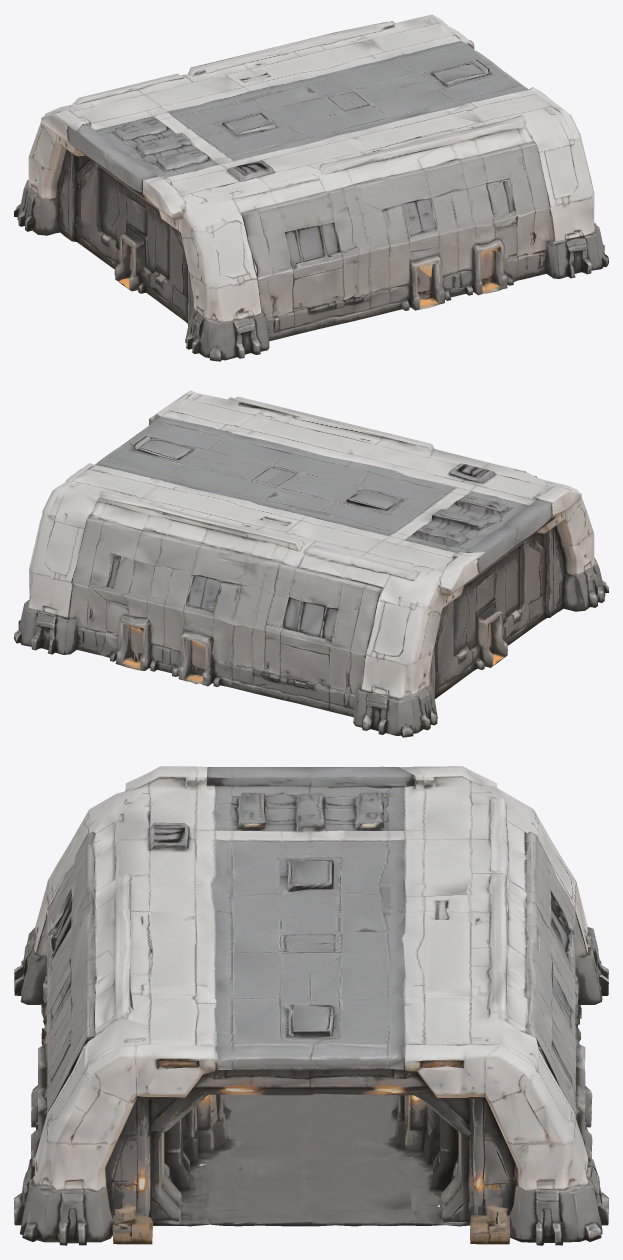
File: armouredHangar.glb
The picture shows the model from 3 angles, top to bottom: view 1: azimuth 30°, elevation 25°; view 2: azimuth 150°, elevation 25°; view 3: azimuth 270°, elevation 25°; orthographic projection. The views are drawn at different scales.
Visible parts, largest first — view 1: armouredHangar; view 2: armouredHangar; view 3: armouredHangar.
Boxes of the visible parts, x1,y1,x2,y2 form: armouredHangar: (14,14,608,361); armouredHangar: (14,390,608,737); armouredHangar: (14,766,608,1245).
Size of the model in its own units: 34 by 11 by 30.
1 material, 1 textured.
